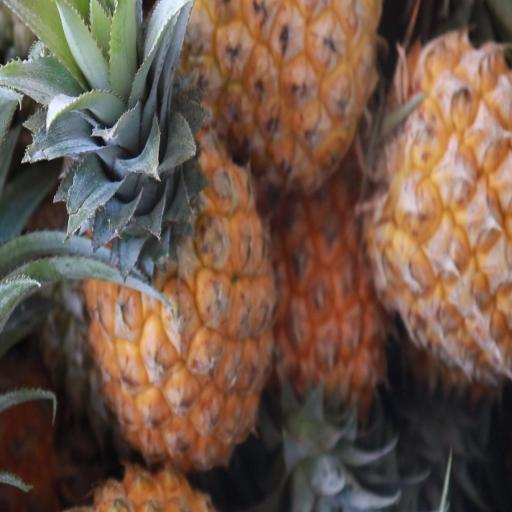Pineapple - v8 v1: (77, 113, 277, 458), (372, 27, 512, 370), (270, 156, 399, 412), (194, 0, 382, 174)
